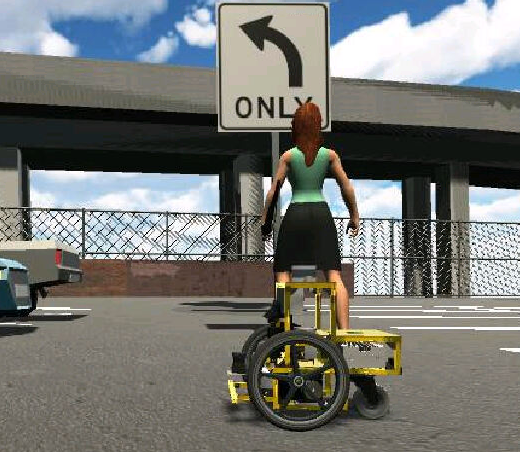arrow_left: (236, 13, 305, 91)
